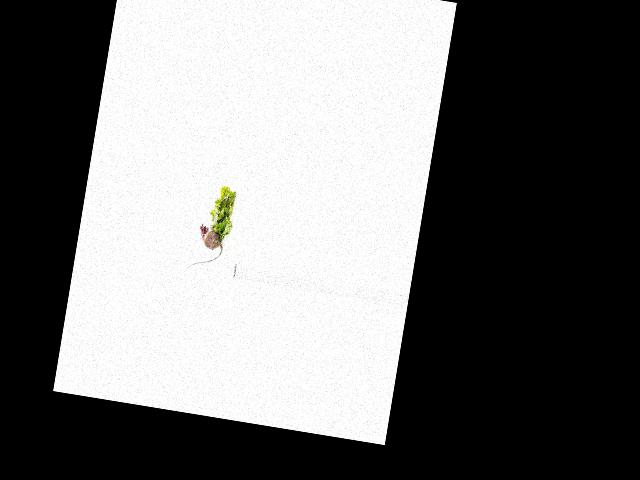beet: (188, 222, 226, 273)
